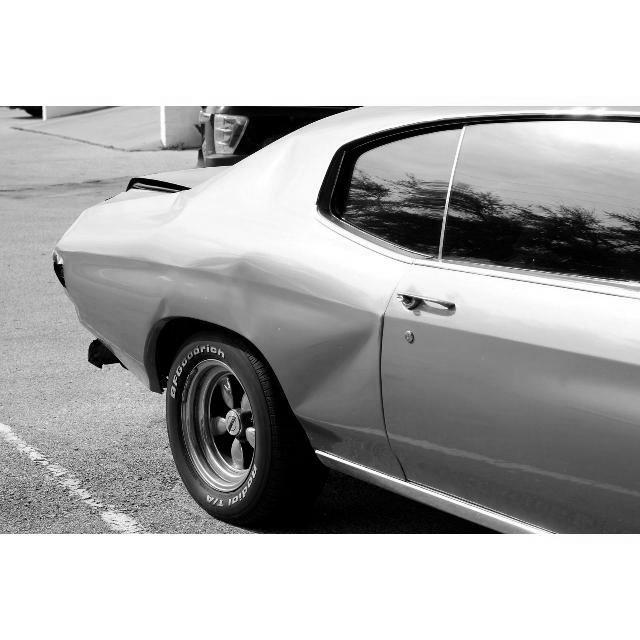quaterpanel-dent: (97, 224, 381, 442)
